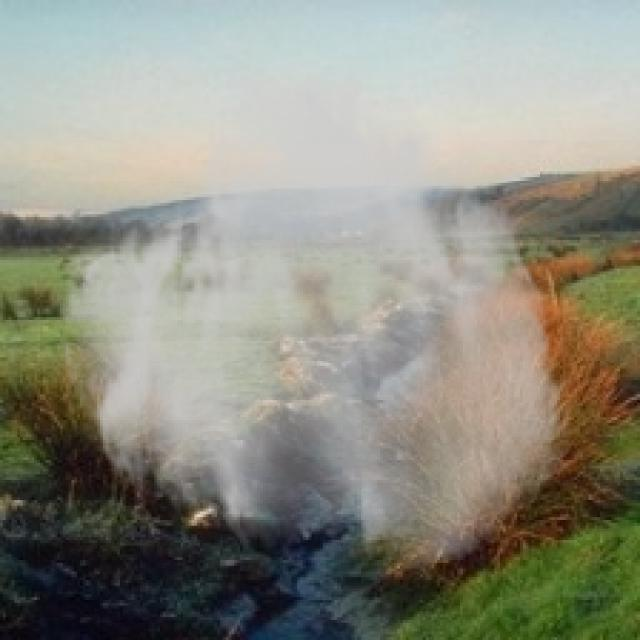Smoke: (57, 46, 574, 574)
